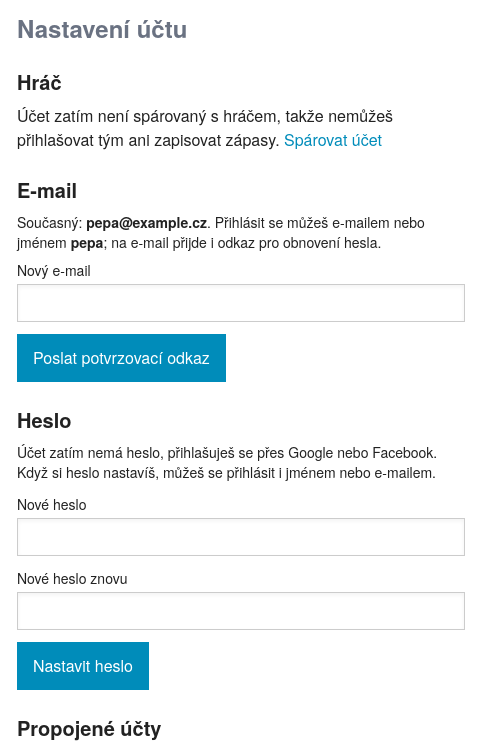
it: e-mail change of an account without a password needs none
Type "novy@example.cz" into the field labelled "Nový e-mail".
click(241, 303); type("novy@example.cz")  # box [17, 284, 465, 322]
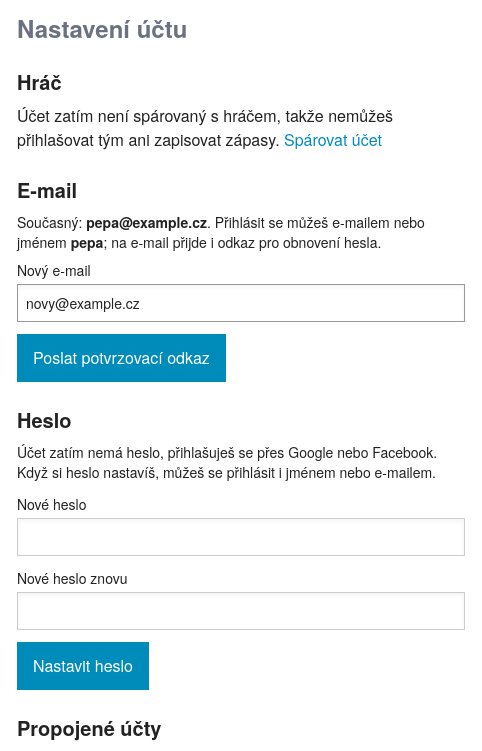
Click the button "Poslat potvrzovací odkaz".
click(121, 358)  # box [17, 334, 226, 382]
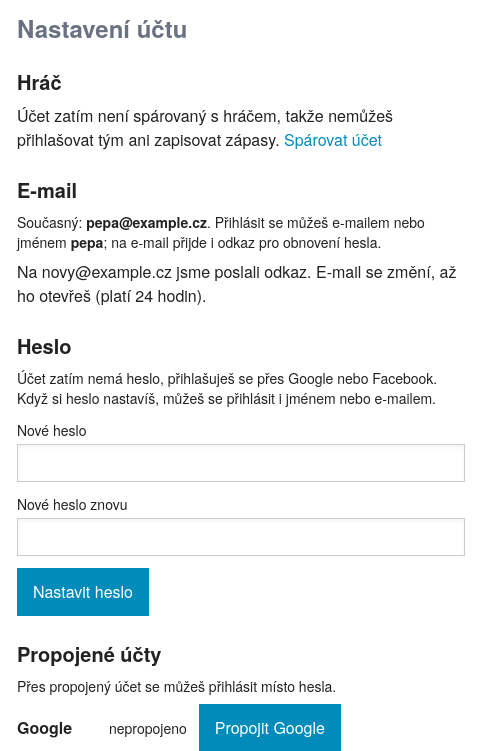
expect the message is shown: met, box [17, 260, 465, 308]
